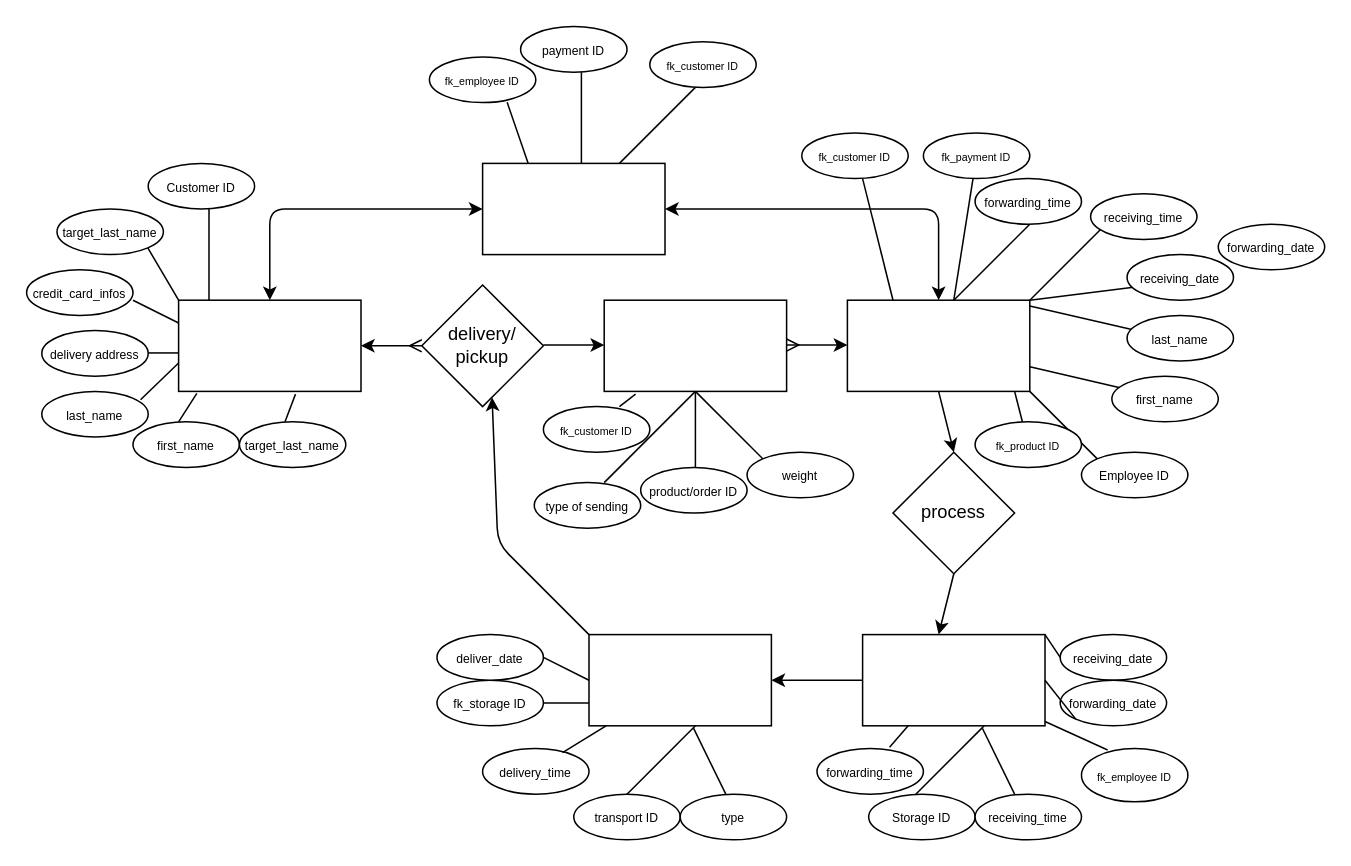
Some shapes in this 1351 by 866 pixel diagram are drawn without their labels. The shapes that lost their labels are listed below. From the top down, each one's centre as x and y in pixels, then its label:
the point at 573,208: payment
the point at 269,345: Customer Package/Mail
the point at 695,345: Product/Order
the point at 938,345: Employee/ office
the point at 679,679: Transport/logistic
the point at 953,679: Storage
